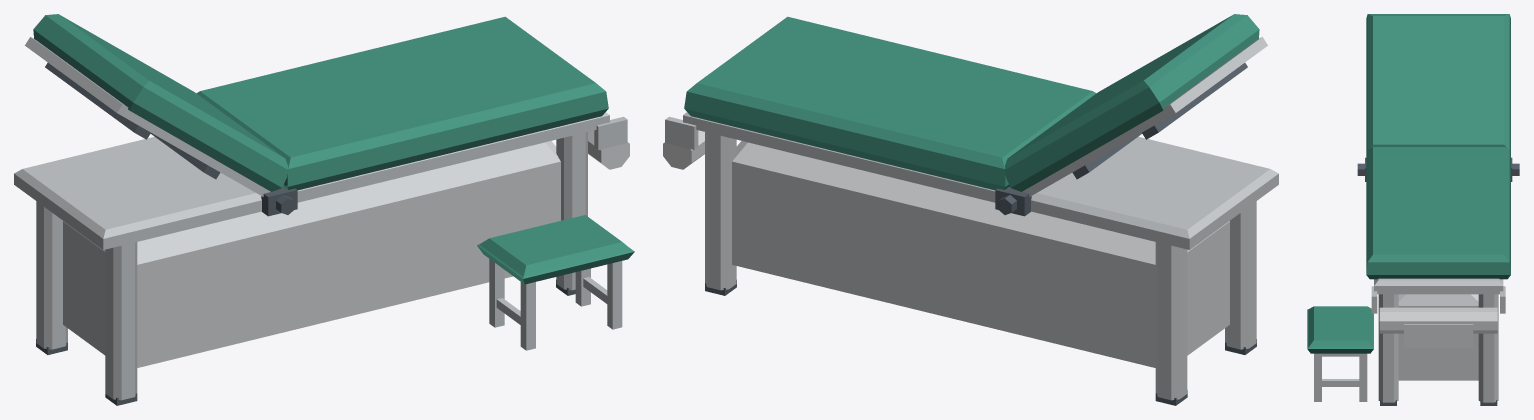
File: examination-couch-1ab5b9.glb
The picture shows the model from 3 angles, left to right: view 1: azimuth 30°, elevation 25°; view 2: azimuth 150°, elevation 25°; view 3: azimuth 270°, elevation 25°; orthographic projection. The views are drawn at different scales.
Parts seen in each view (by area): view 1: examination-couch, backrest, footstool, paper-roll; view 2: examination-couch, backrest, paper-roll; view 3: examination-couch, backrest, footstool, paper-roll.
Boxes of the visible parts, bbox=[...] form: examination-couch: bbox=[14, 16, 627, 405]; backrest: bbox=[25, 14, 287, 196]; footstool: bbox=[477, 215, 634, 350]; paper-roll: bbox=[588, 130, 629, 169]; examination-couch: bbox=[665, 16, 1278, 405]; backrest: bbox=[1005, 14, 1267, 196]; paper-roll: bbox=[663, 130, 704, 169]; examination-couch: bbox=[1357, 147, 1519, 405]; backrest: bbox=[1366, 14, 1510, 158]; footstool: bbox=[1307, 306, 1373, 401]; paper-roll: bbox=[1379, 307, 1497, 347].
Size of the model in its own units: 1.99 by 1.16 by 0.954.
